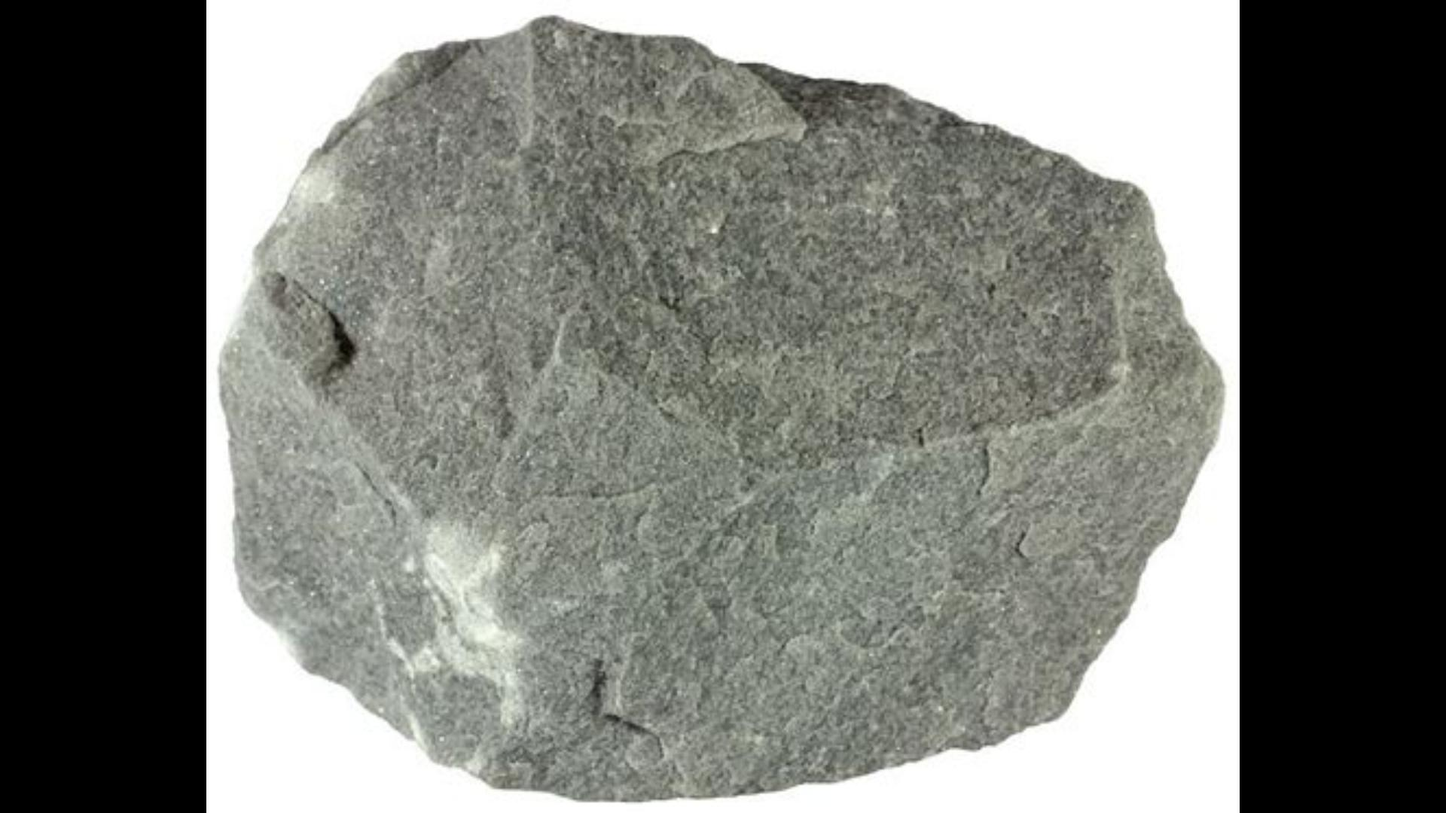rock: (222, 17, 1220, 798)
